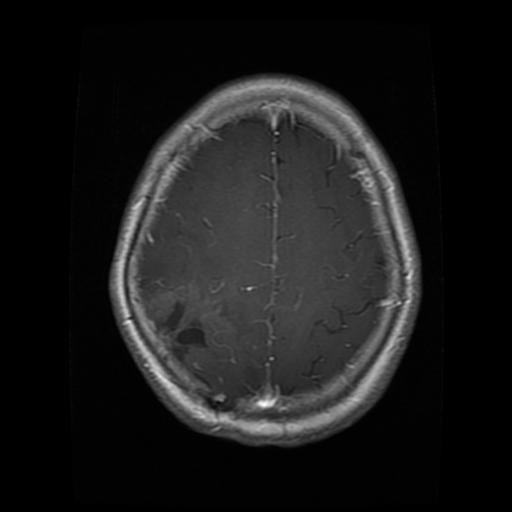Gliomia_tumour: (141, 281, 234, 377)
